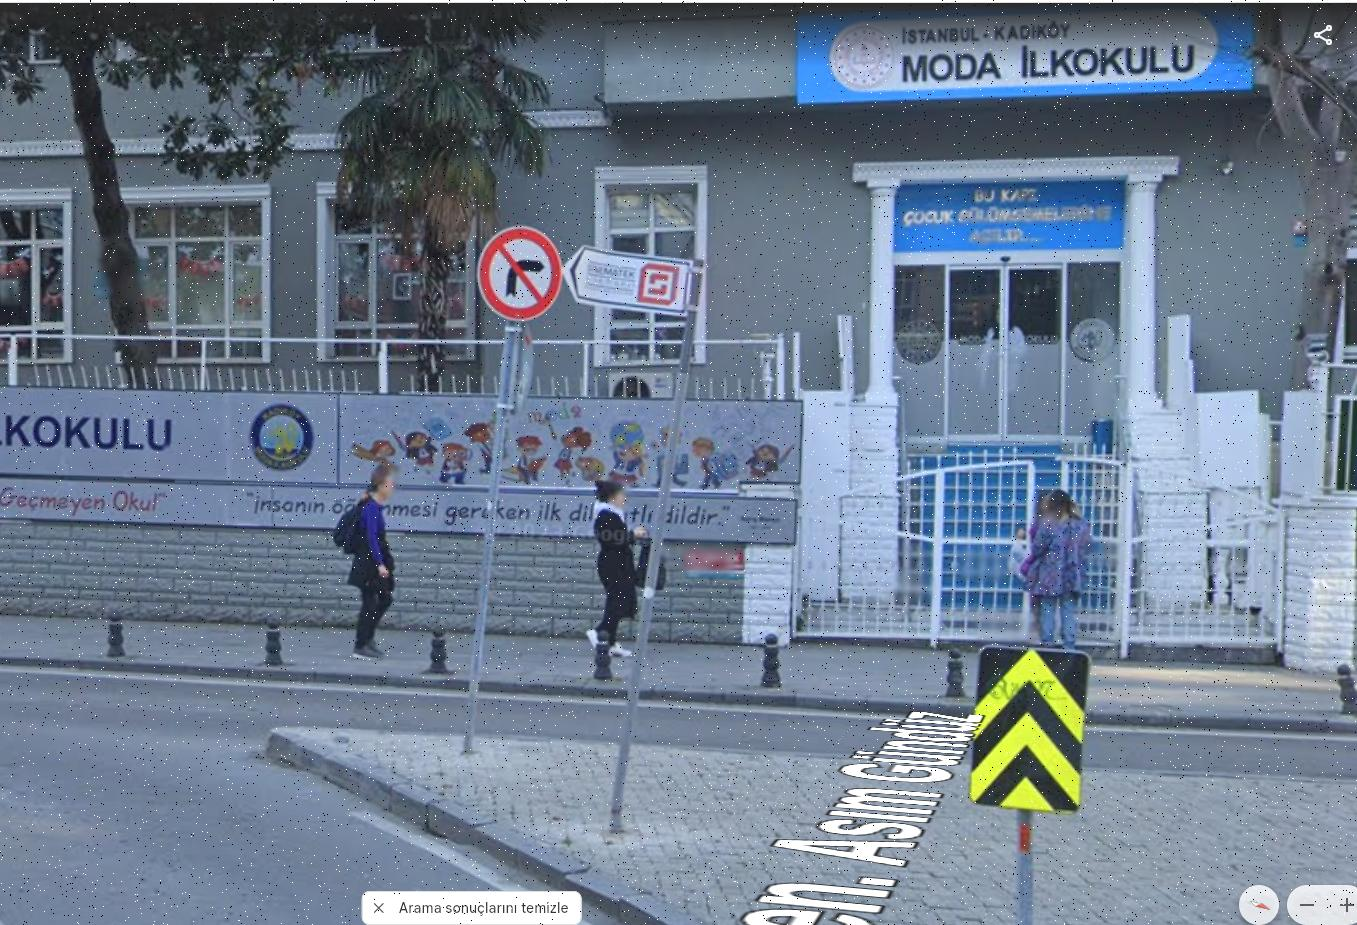rightturnsareforbidden: (485, 228, 561, 309)
